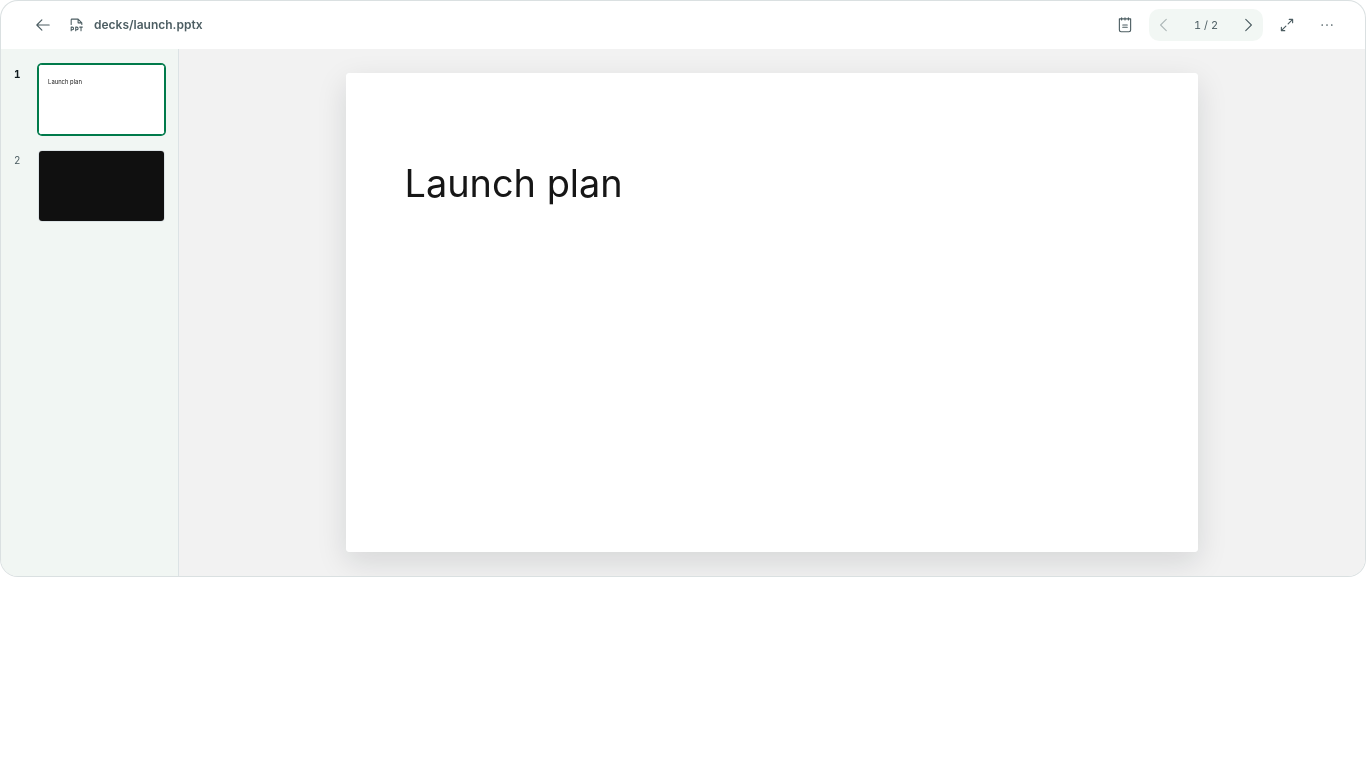
Test: presentation preview › renders the deck, walks slides from the toolbar, and shows speaker notes
The image size is (1366, 768).
Expected: the 2nd text "Launch plan" is shown, [405,161,623,206]
Expected: the picture named "Slide 1 of launch.pptx" is shown, [346,73,1198,552]
What coordinates should you click on to do the following:
click the button named "Speaker notes"
I would click on:
 (1125, 25)
Its box is [1109,9,1141,41].
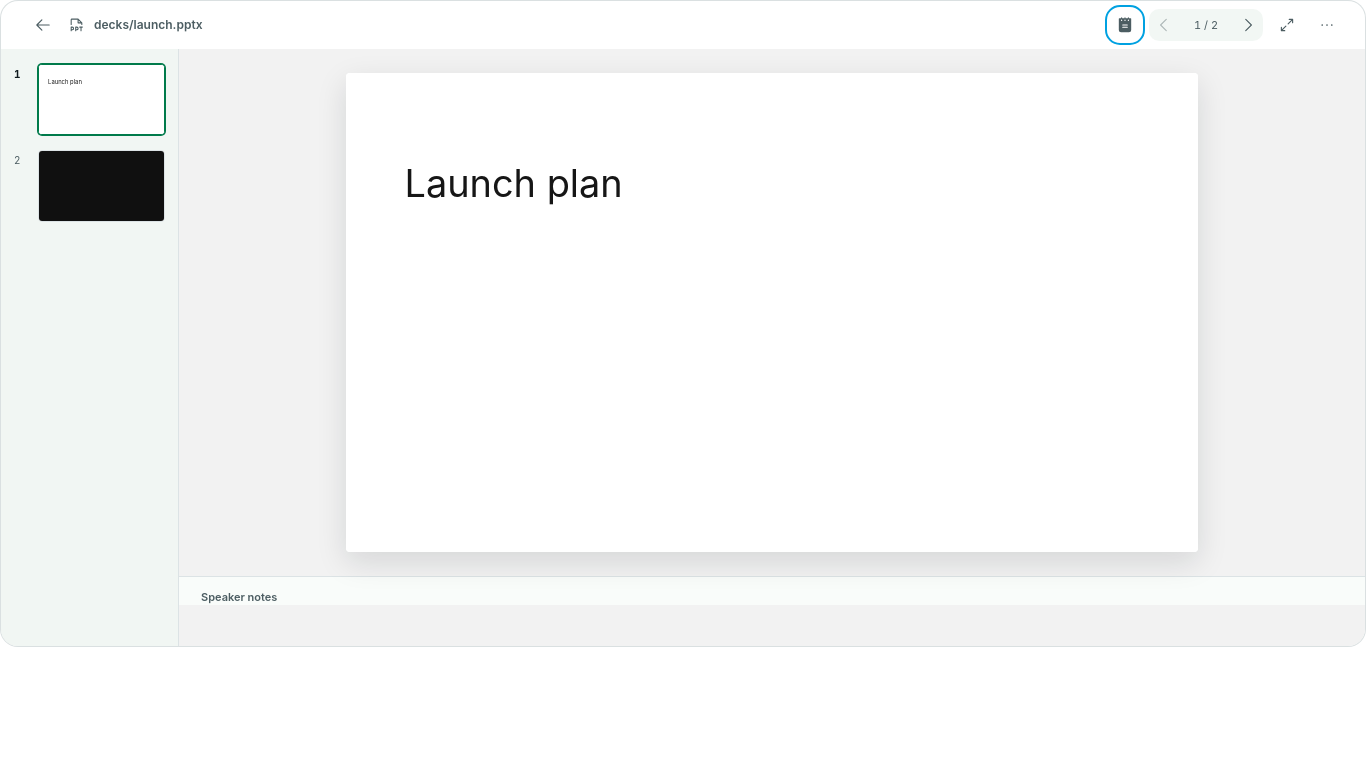
What coordinates should you click on to do the following:
click the button named "Next slide"
I would click on:
 (1248, 25)
Its box is [1233,10,1263,40].
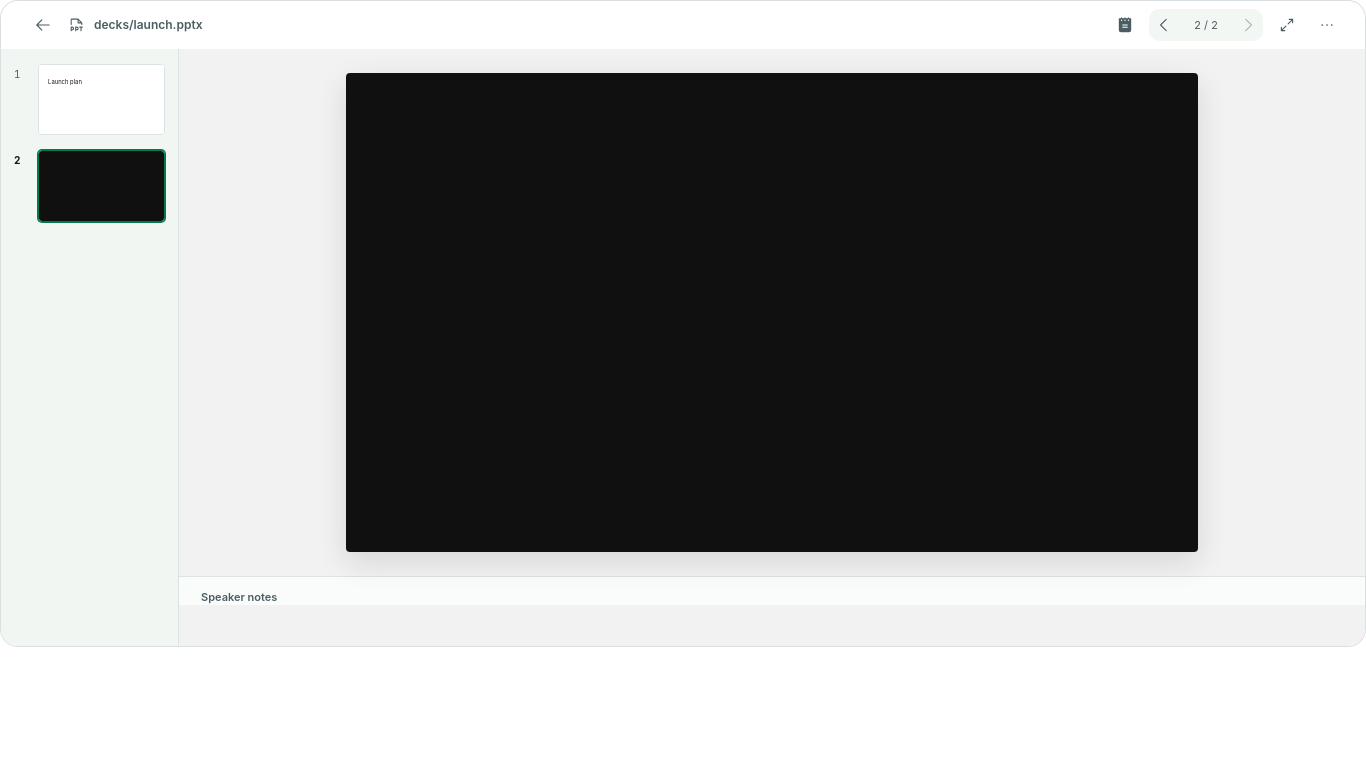
Expected: the picture named "Slide 2 of launch.pptx" is shown, [346,73,1198,552]
What coordinates should you click on to do the following:
click the button with aria-label "Go to slide 1"
I would click on:
 (90, 100)
Its box is [11,61,168,138].
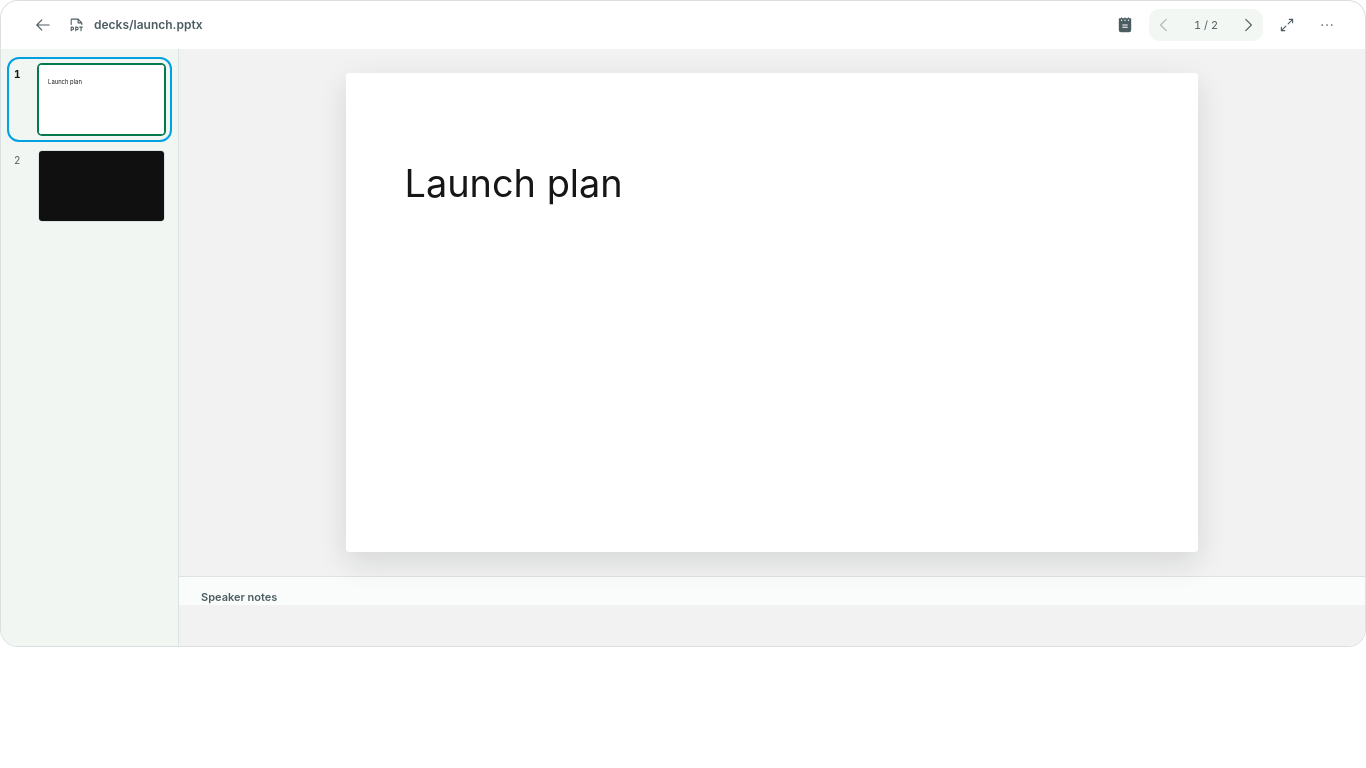
Expected: the picture named "Slide 1 of launch.pptx" is shown, [346,73,1198,552]
